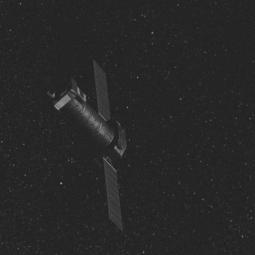xmm_newton: (51, 71, 152, 235)
